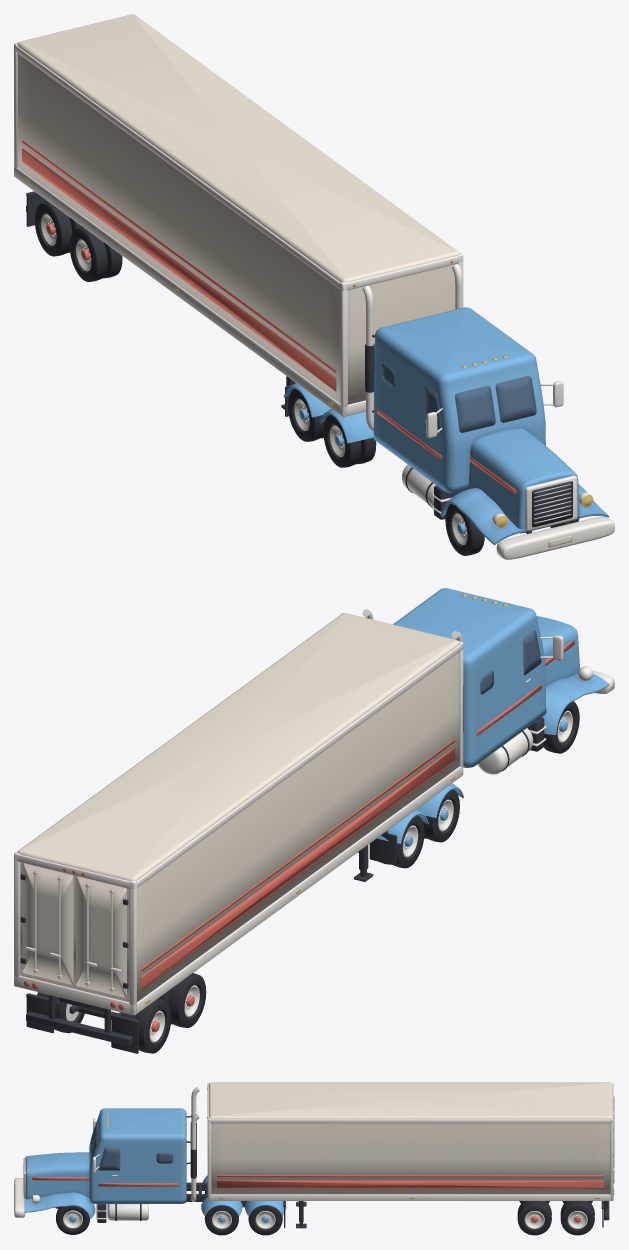
The model's file is semi-truck.glb.
3 views of the same model, one above another, from view 1: azimuth 30°, elevation 25°; view 2: azimuth 150°, elevation 25°; view 3: azimuth 270°, elevation 25° (orthographic). The views are drawn at different scales.
Visible parts, largest first — view 1: semi-truck_trailer, semi-truck_body, semi-truck_windows, semi-truck_wheel_t1r, semi-truck_wheel_t2r, semi-truck_wheel_d1r, semi-truck_wheel_fr, semi-truck_wheel_d2r; view 2: semi-truck_trailer, semi-truck_body, semi-truck_wheel_t1r, semi-truck_wheel_t2r, semi-truck_wheel_d1r, semi-truck_wheel_fr, semi-truck_wheel_d2r, semi-truck_windows; view 3: semi-truck_trailer, semi-truck_body, semi-truck_wheel_t1l, semi-truck_wheel_t2l, semi-truck_windows, semi-truck_wheel_d1l, semi-truck_wheel_d2l, semi-truck_wheel_fl.
Part boxes in pixels (x1,y1,x2,y2): semi-truck_trailer: (14, 14, 463, 416); semi-truck_body: (284, 264, 614, 559); semi-truck_windows: (381, 363, 536, 434); semi-truck_wheel_t1r: (69, 227, 122, 281); semi-truck_wheel_t2r: (35, 201, 82, 256); semi-truck_wheel_d1r: (323, 415, 376, 467); semi-truck_wheel_fr: (445, 503, 484, 555); semi-truck_wheel_d2r: (288, 389, 324, 441); semi-truck_trailer: (14, 613, 463, 1053); semi-truck_body: (362, 588, 614, 865); semi-truck_wheel_t1r: (158, 973, 206, 1027); semi-truck_wheel_t2r: (121, 998, 171, 1053); semi-truck_wheel_d1r: (423, 789, 459, 842); semi-truck_wheel_fr: (544, 701, 579, 753); semi-truck_wheel_d2r: (380, 815, 424, 868); semi-truck_windows: (480, 630, 541, 694); semi-truck_trailer: (207, 1082, 614, 1228); semi-truck_body: (14, 1087, 286, 1227); semi-truck_wheel_t1l: (517, 1201, 551, 1235); semi-truck_wheel_t2l: (560, 1201, 594, 1235); semi-truck_windows: (90, 1121, 173, 1170); semi-truck_wheel_d1l: (204, 1205, 238, 1235); semi-truck_wheel_d2l: (248, 1205, 282, 1235); semi-truck_wheel_fl: (56, 1206, 89, 1234).
Size of the model in its own units: 2.92 by 4 by 18.16.
Materials: 33 (2 with a texture image).
